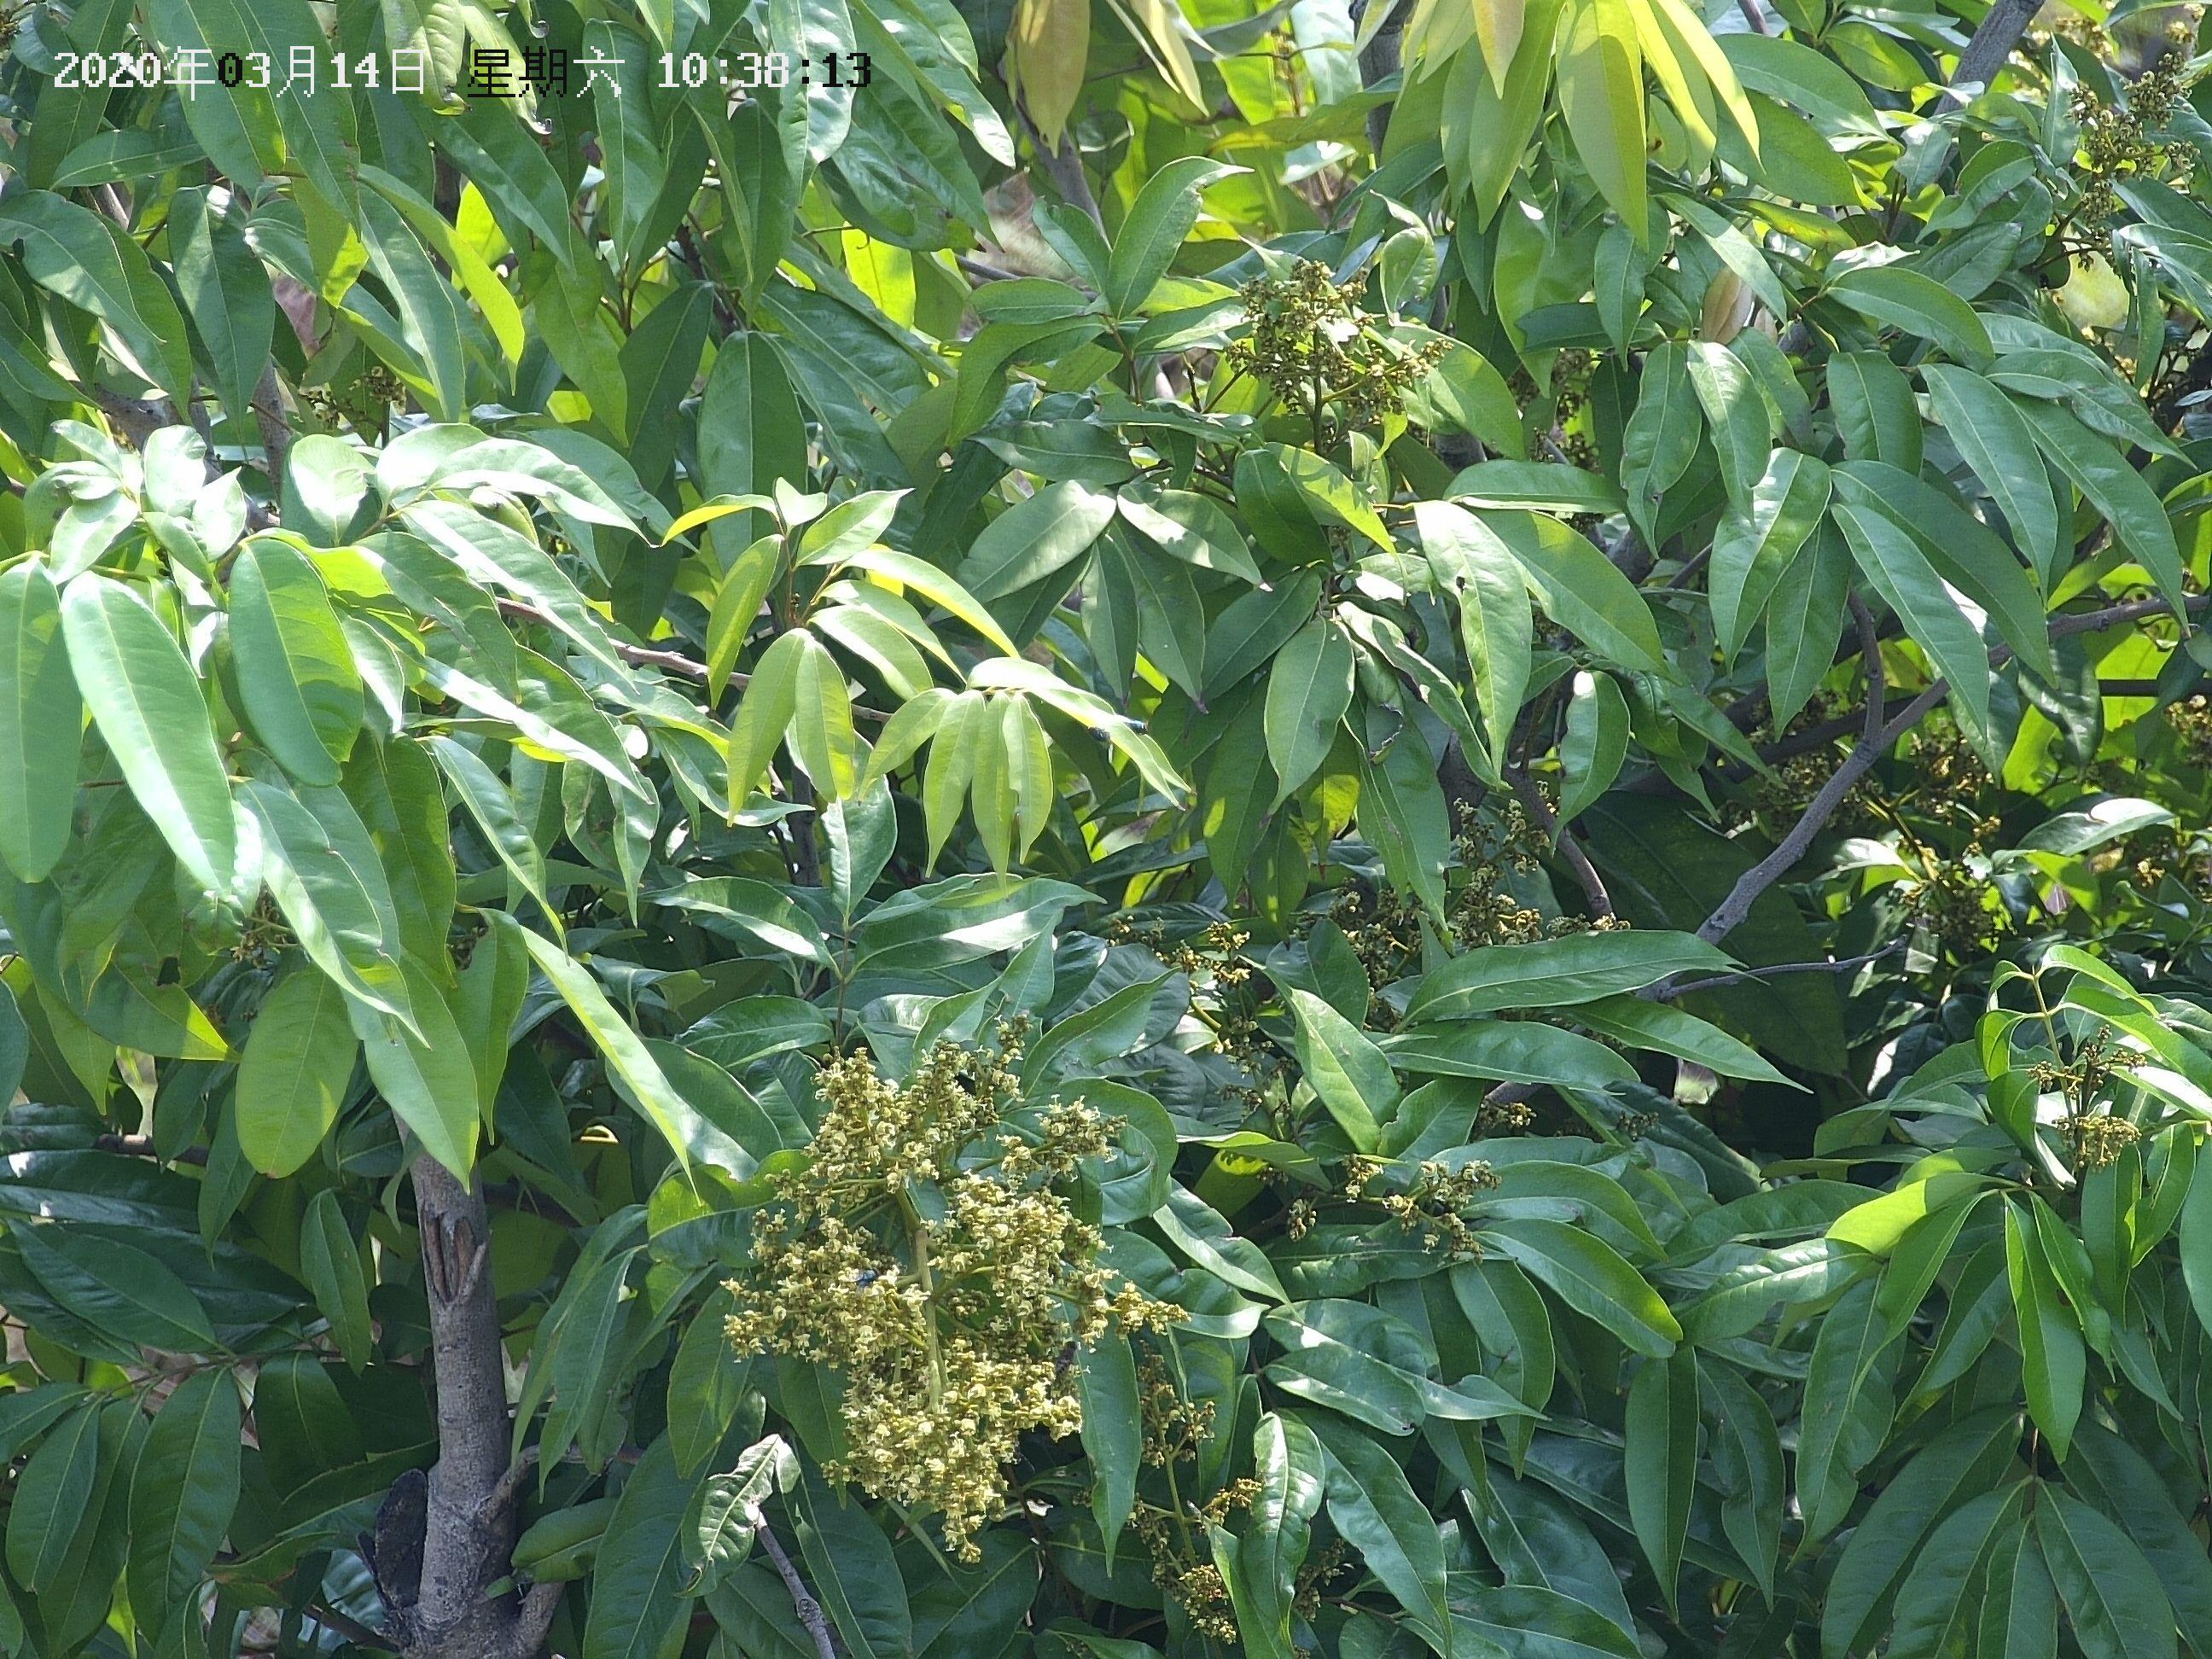开花始期: (716, 1039, 1139, 1565), (1092, 1359, 1263, 1650), (1216, 249, 1447, 450), (2043, 51, 2200, 244), (1278, 1145, 1510, 1269), (1442, 781, 1557, 951), (2022, 1018, 2155, 1161)
